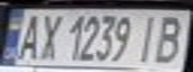1: (60, 11, 84, 62)
2: (78, 11, 103, 62)
3: (97, 11, 118, 62)
9: (109, 11, 139, 62)
A: (12, 10, 45, 61)
B: (148, 11, 190, 65)
I: (133, 11, 163, 64)
X: (33, 10, 63, 61)
